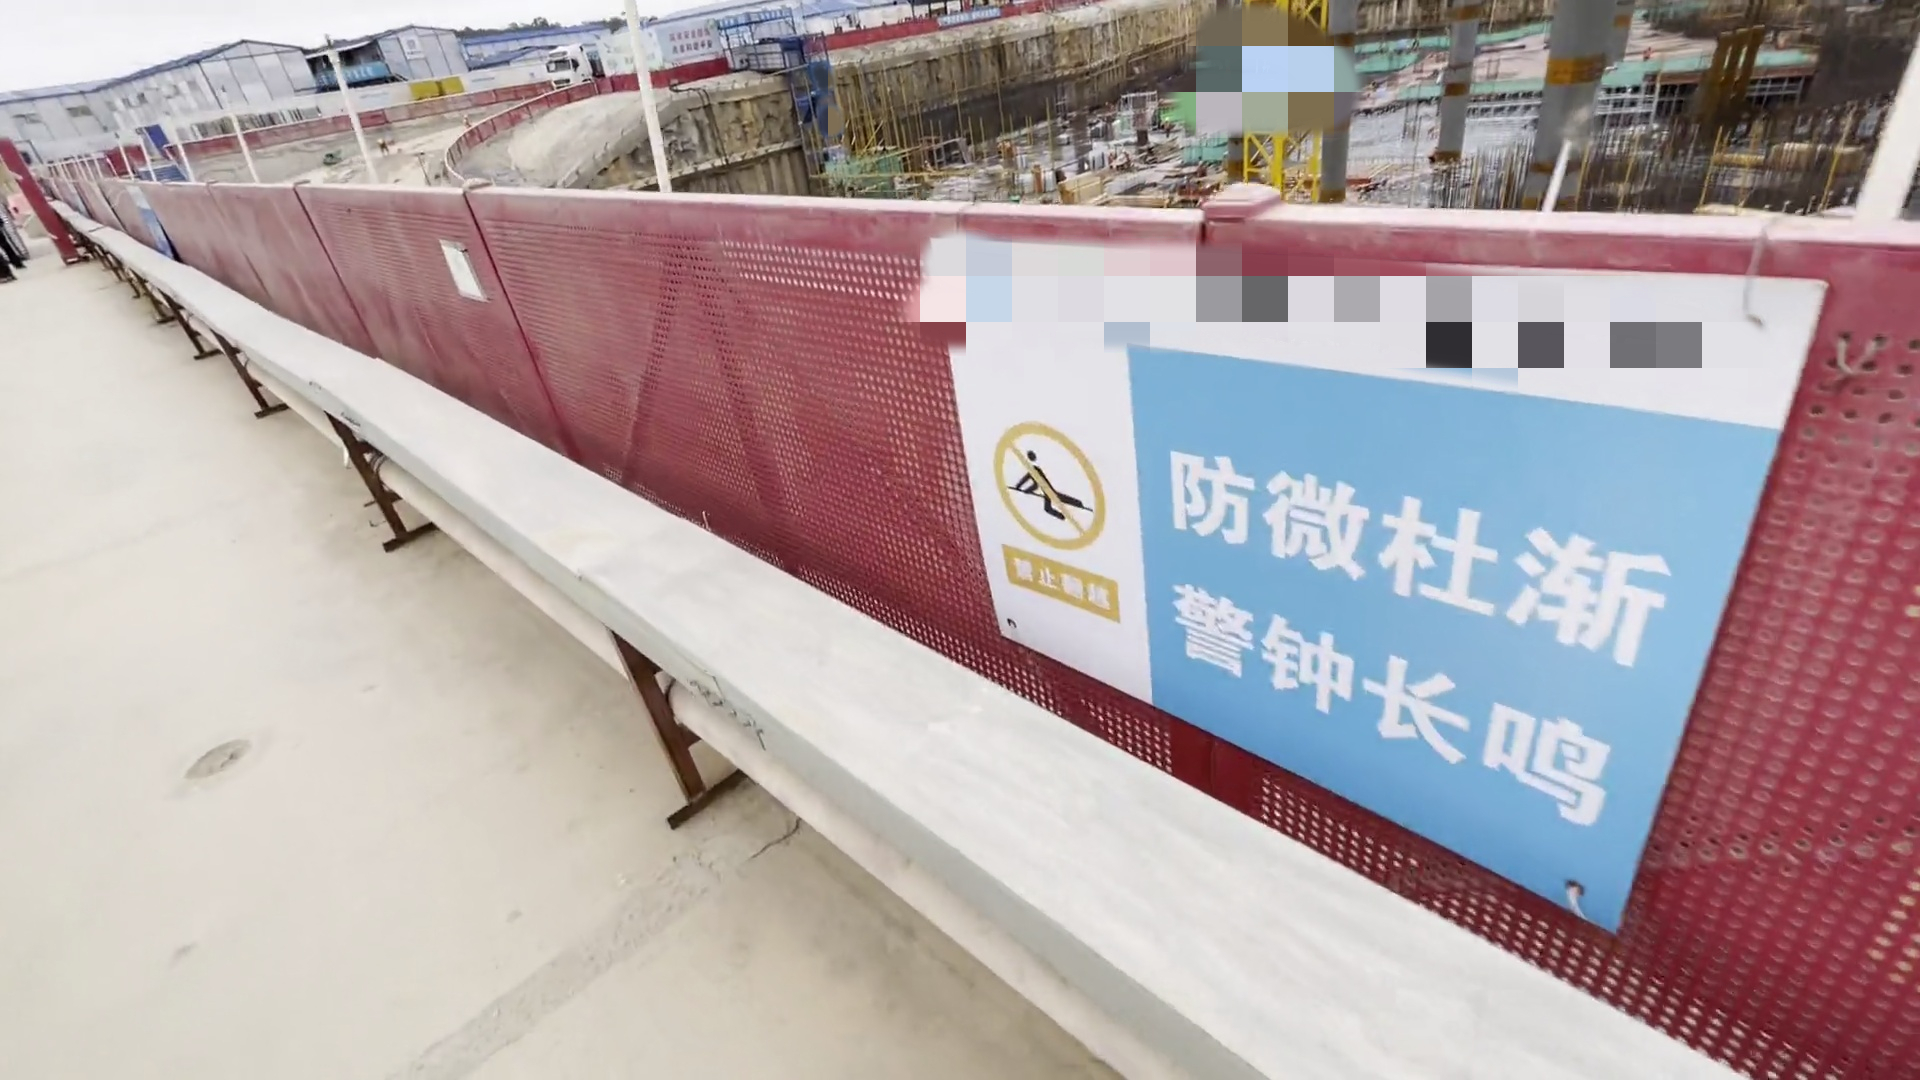fence: (1, 141, 1869, 1033)
slogan: (992, 322, 1679, 866), (622, 1, 764, 80), (302, 25, 415, 102)
